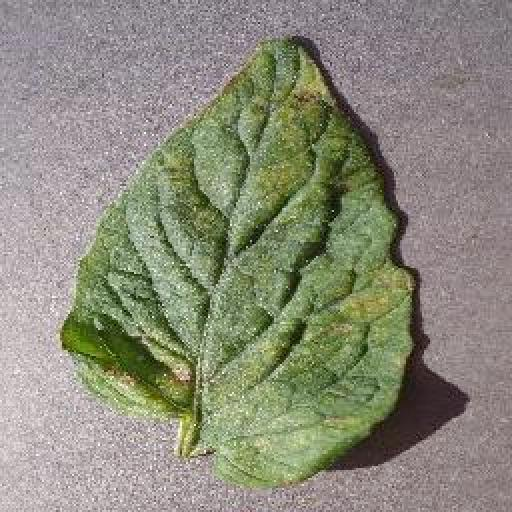disease_tomato: (58, 38, 414, 488)
